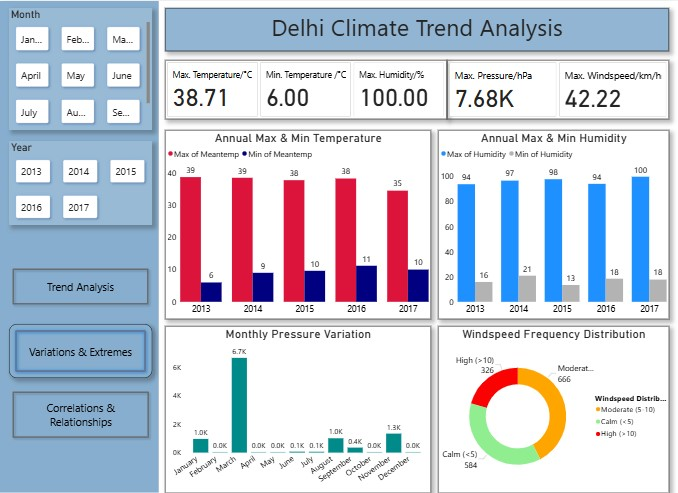

Layout of this report page (visuals, bound fields, positions):
{"tool":"powerbi","page":{"name":"Variations & Extremes","canvas":[1700,1230],"ordinal":1},"visuals":[{"type":"cardVisual","fields":{"Data":["Max(cleaned_data.Meantemp)","Min(cleaned_data.Meantemp)1","Max(cleaned_data.Humidity)"]},"box":[412.5,147.5,705,147.5],"z":0},{"type":"clusteredColumnChart","title":"Annual Max & Min Temperature ","fields":{"Category":["DateTable.Year"],"Y":["Max(cleaned_data.Meantemp)","Min(cleaned_data.Meantemp)"]},"box":[412.5,322.5,665,472.5],"z":1000},{"type":"cardVisual","fields":{"Data":["Max(cleaned_data.Meanpressure)","Max(cleaned_data.Wind_speed)"]},"box":[1117.5,147.5,555,147.5],"z":2000},{"type":"clusteredColumnChart","title":"Annual Max & Min Humidity","fields":{"Category":["DateTable.Year"],"Y":["Max(cleaned_data.Humidity)","Min(cleaned_data.Humidity)1"]},"box":[1095,322.5,577.5,472.5],"z":3000},{"type":"clusteredColumnChart","title":"Monthly Pressure Variation","fields":{"Category":["DateTable.Month"],"Y":["DateTable.Pressure Range"]},"box":[412.5,812.5,665,417.5],"z":4000},{"type":"donutChart","title":"Windspeed Frequency Distribution","fields":{"Category":["cleaned_data.Wind_Speed_Category"],"Y":["CountNonNull(cleaned_data.Wind_speed)"]},"box":[1095,812.5,577.5,417.5],"z":5000},{"type":"actionButton","box":[22.5,660,357.5,107.5],"z":7000},{"type":"actionButton","box":[22.5,807.5,357.5,135],"z":8000},{"type":"advancedSlicerVisual","fields":{"Values":["DateTable.Month"]},"box":[22.5,17.5,357.5,305],"z":9000},{"type":"advancedSlicerVisual","fields":{"Values":["DateTable.Year"]},"box":[22.5,350,357.5,210],"z":10000},{"type":"textbox","box":[412.5,17.5,1260,107.5],"z":12000},{"type":"actionButton","box":[21.8,968.5,358.3,133.2],"z":13000}]}

Visuals, with their boxes in screenshot pixels (x1, y1, x2, y2), scaled from the page's 1700x1230 canvas onto the 678x493 screenshot:
cardVisual - Max(cleaned_data.Meantemp) x Min(cleaned_data.Meantemp)1: left=165, top=59, right=446, bottom=118
"Annual Max & Min Temperature " clusteredColumnChart: left=165, top=129, right=430, bottom=319
cardVisual - Max(cleaned_data.Meanpressure) x Max(cleaned_data.Wind_speed): left=446, top=59, right=667, bottom=118
"Annual Max & Min Humidity" clusteredColumnChart: left=437, top=129, right=667, bottom=319
"Monthly Pressure Variation" clusteredColumnChart: left=165, top=326, right=430, bottom=492
"Windspeed Frequency Distribution" donutChart: left=437, top=326, right=667, bottom=492
actionButton: left=9, top=265, right=152, bottom=308
actionButton: left=9, top=324, right=152, bottom=378
advancedSlicerVisual - DateTable.Month: left=9, top=7, right=152, bottom=129
advancedSlicerVisual - DateTable.Year: left=9, top=140, right=152, bottom=224
textbox: left=165, top=7, right=667, bottom=50
actionButton: left=9, top=388, right=152, bottom=442
